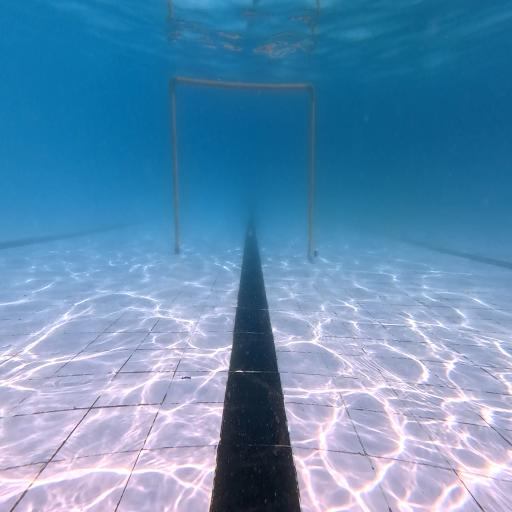gate: (169, 76, 318, 257)
